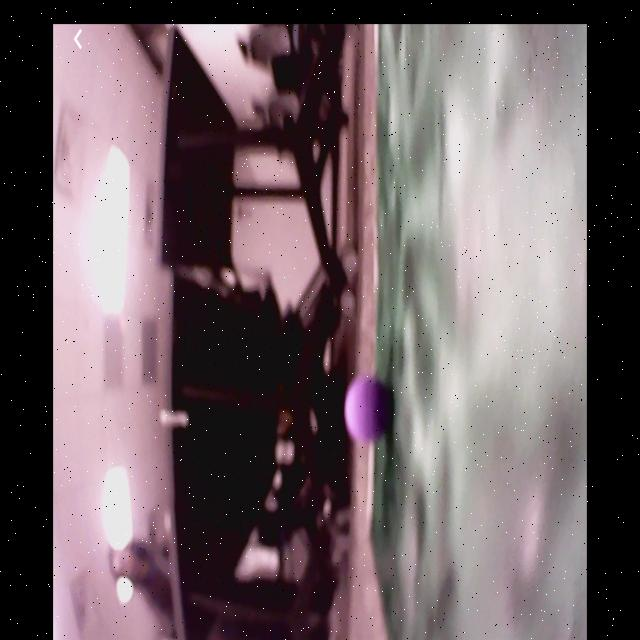ball: (341, 378, 390, 441)
